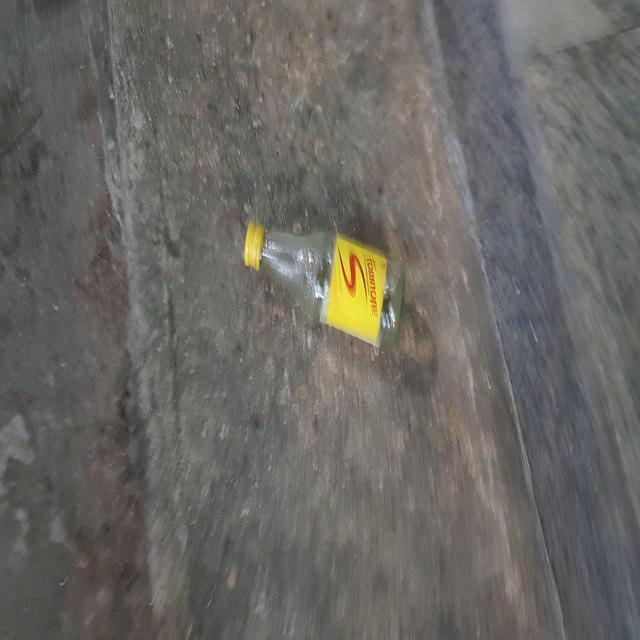glass: (244, 220, 405, 346)
